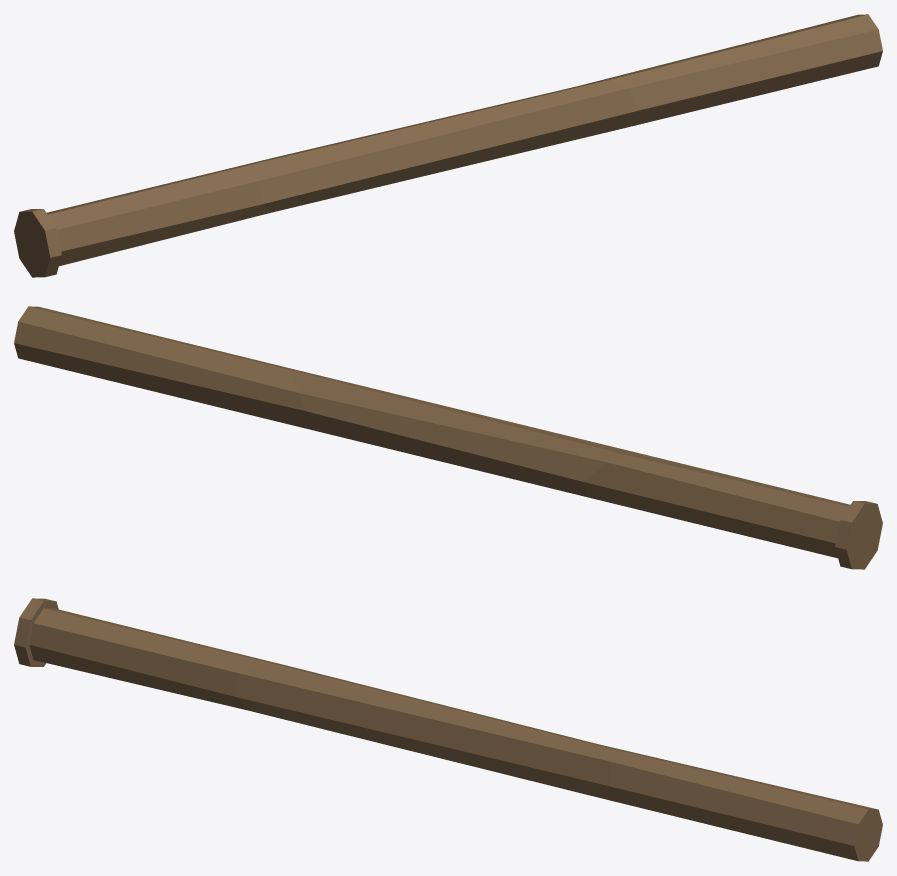
Rendered from SM_Prop_Pipe_02_Straight_01.fbx.
3 views of the same model, one above another, from view 1: azimuth 30°, elevation 25°; view 2: azimuth 150°, elevation 25°; view 3: azimuth 330°, elevation 25° (orthographic).
Parts seen in each view (by area): view 1: SM_Prop_Pipe_02_Straight_01; view 2: SM_Prop_Pipe_02_Straight_01; view 3: SM_Prop_Pipe_02_Straight_01.
Boxes of the visible parts, box(x1,y1,x2,y2) form: SM_Prop_Pipe_02_Straight_01: box(14, 14, 882, 277); SM_Prop_Pipe_02_Straight_01: box(14, 306, 882, 569); SM_Prop_Pipe_02_Straight_01: box(14, 598, 882, 861).
Size of the model in its own units: 252 by 18.95 by 18.95.
